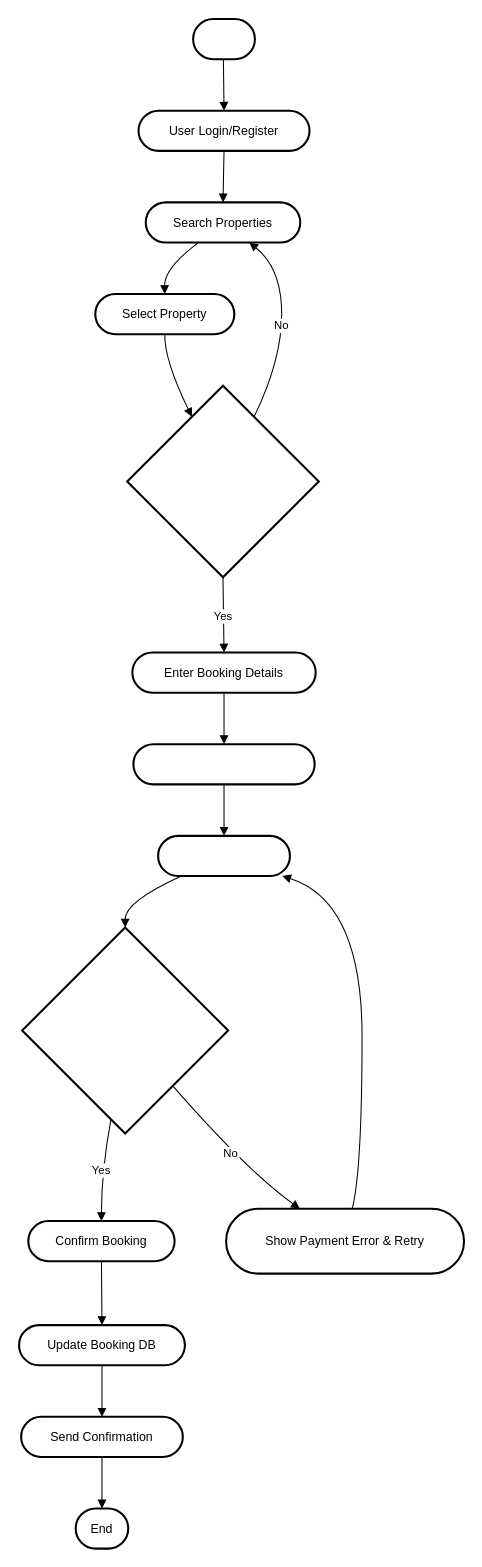
The diagram is 482 pixels wide and 1567 high, and some of its shapes have lost their labels. Each missing label, with the centre of its shape:
Check Availability?: point (222, 481)
Make Payment: point (223, 855)
Payment Successful?: point (125, 1030)
Start: point (223, 39)
Validate Booking Info: point (223, 764)
